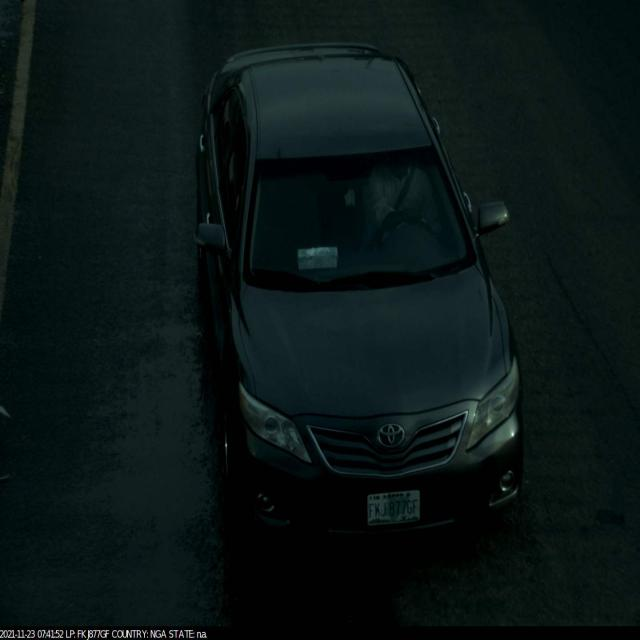windshield: (232, 143, 484, 303)
